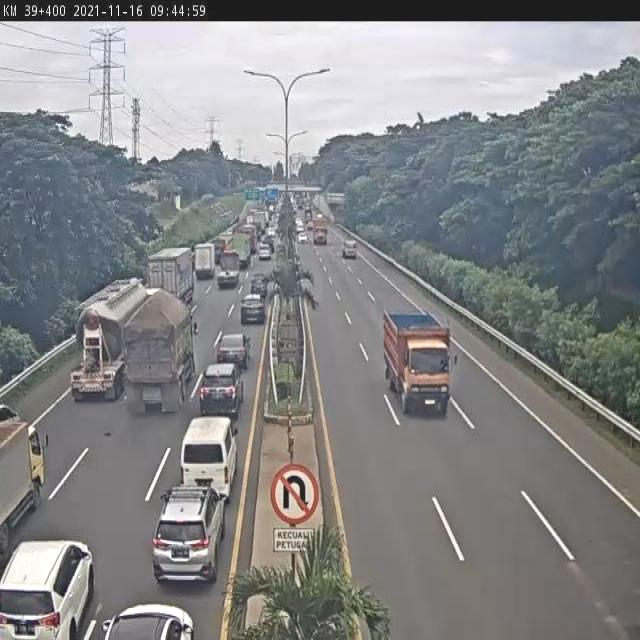Car: (0, 539, 94, 640), (150, 486, 228, 584), (99, 600, 197, 638), (199, 361, 245, 418), (216, 333, 250, 371), (240, 292, 266, 324), (250, 274, 269, 298), (342, 239, 357, 259), (258, 243, 272, 260), (298, 232, 307, 244)
Truck: (122, 289, 198, 413), (383, 308, 459, 415), (0, 416, 49, 537), (146, 248, 194, 300), (217, 251, 240, 288), (195, 242, 216, 277), (313, 218, 329, 244)
Van: (180, 416, 238, 502)
